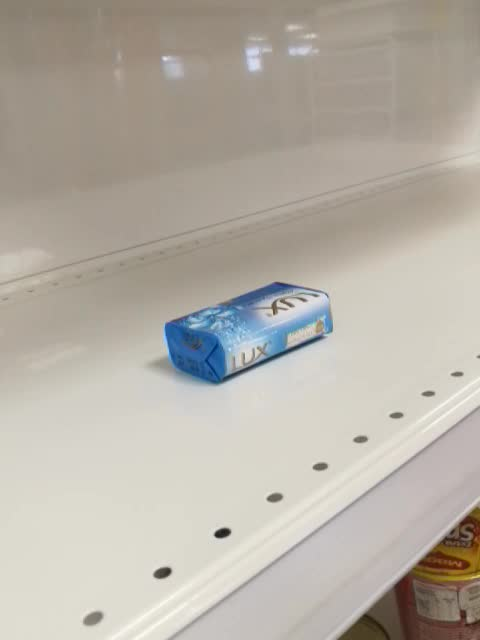soap: (163, 281, 335, 385)
